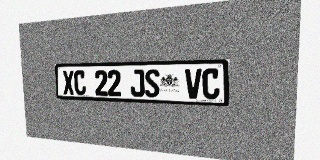2: (107, 70, 121, 96), (95, 70, 108, 96)
C: (202, 68, 220, 99), (74, 70, 86, 95)
J: (130, 69, 145, 97)
S: (145, 69, 160, 97)
V: (185, 69, 202, 99)
X: (62, 70, 74, 95)
